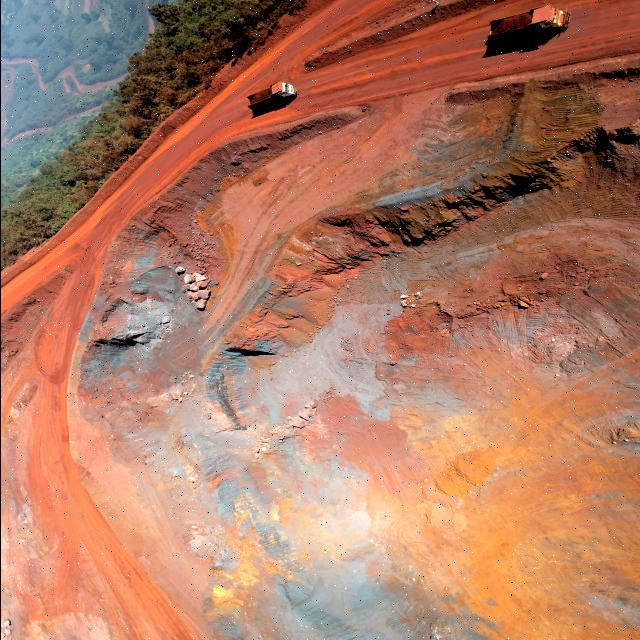Dumper truck: (485, 4, 565, 42), (248, 82, 294, 110)
